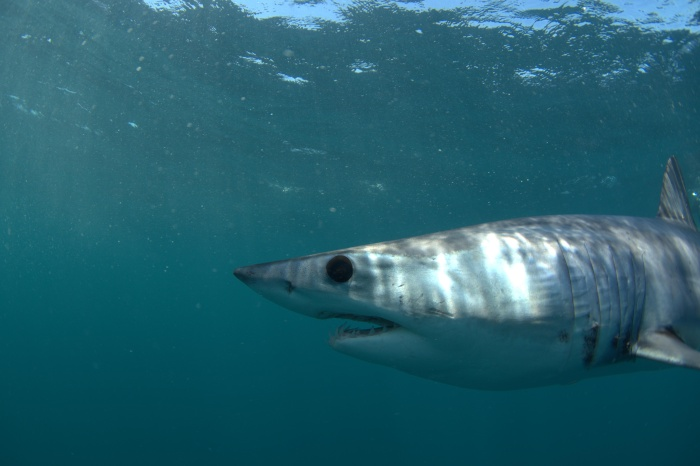Mako: (194, 149, 700, 393)
